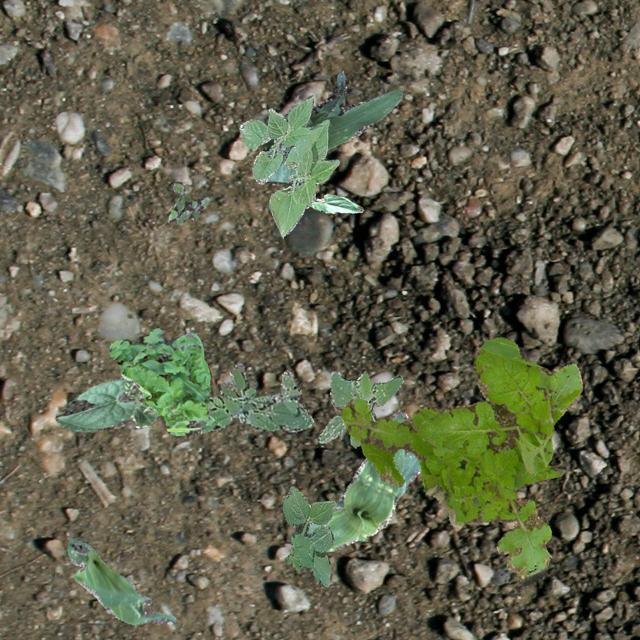crop: (262, 70, 402, 184), (306, 410, 420, 550), (238, 94, 338, 236), (66, 538, 174, 624), (54, 374, 158, 430), (278, 185, 362, 212)
weed: (338, 336, 556, 584), (108, 326, 220, 436), (198, 362, 312, 432), (526, 362, 582, 482), (318, 371, 402, 446), (282, 484, 334, 586), (166, 182, 208, 224)
